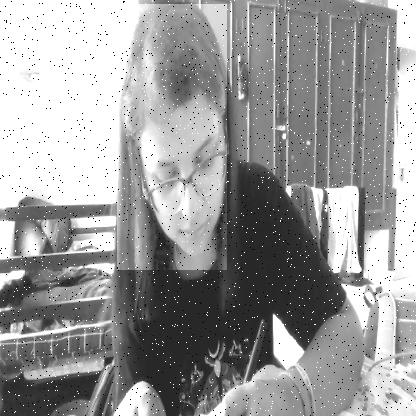Normal: (117, 4, 227, 270)
